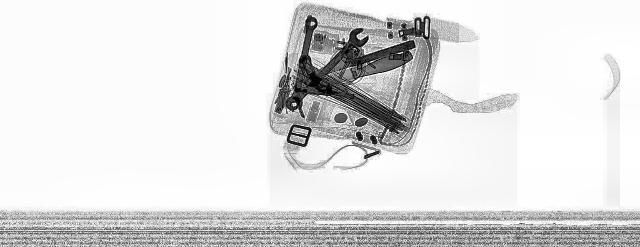Gun: (272, 86, 358, 116)
Knife: (292, 40, 422, 82), (298, 49, 427, 91)
Wrench: (275, 27, 379, 111), (286, 17, 318, 110)
